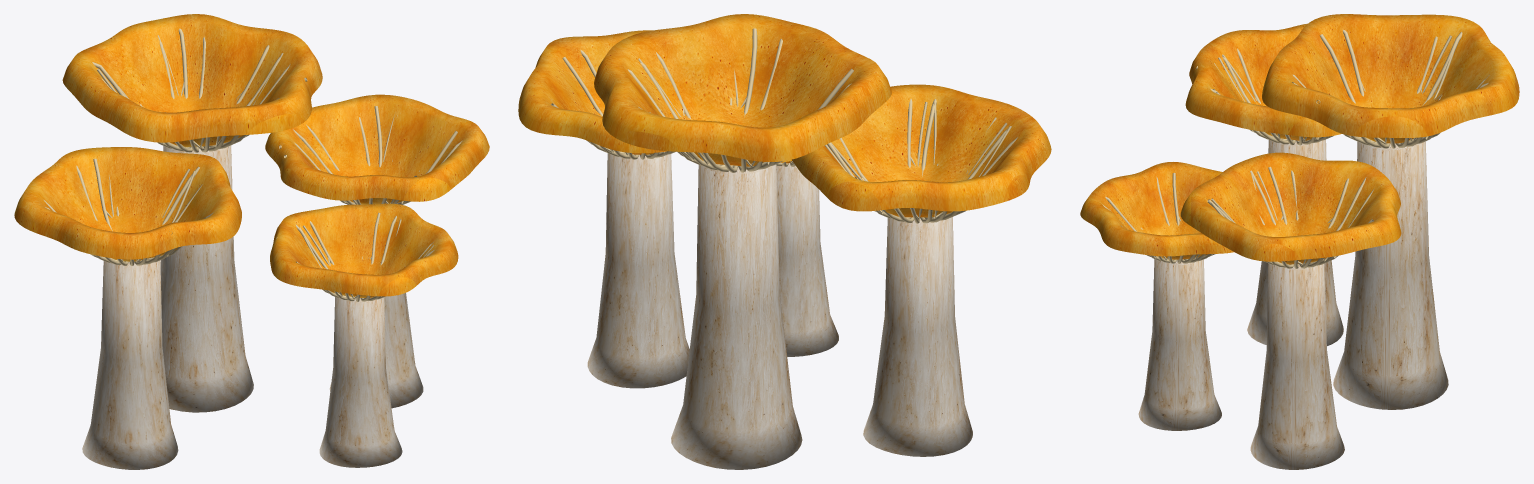
File: chanterelle-cluster-v01.glb
3 renders of one model, left to right at view 1: azimuth 30°, elevation 25°; view 2: azimuth 150°, elevation 25°; view 3: azimuth 270°, elevation 25°, orthographic. The views are drawn at different scales.
Visible parts, largest first — view 1: chanterelle 2 golden funnel cap, chanterelle 1 golden funnel cap, chanterelle 3 golden funnel cap, chanterelle 1 ivory stem, chanterelle 2 ivory stem, chanterelle 4 golden funnel cap, chanterelle 4 ivory stem, chanterelle 3 ivory stem; view 2: chanterelle 2 golden funnel cap, chanterelle 2 ivory stem, chanterelle 1 golden funnel cap, chanterelle 1 ivory stem, chanterelle 3 ivory stem, chanterelle 4 ivory stem, chanterelle 3 golden funnel cap; view 3: chanterelle 2 golden funnel cap, chanterelle 2 ivory stem, chanterelle 3 golden funnel cap, chanterelle 3 ivory stem, chanterelle 4 ivory stem, chanterelle 4 golden funnel cap, chanterelle 1 golden funnel cap, chanterelle 1 ivory stem.
Boxes of the visible parts, bbox=[...] form: chanterelle 2 golden funnel cap: bbox=[62, 14, 322, 147]; chanterelle 1 golden funnel cap: bbox=[14, 147, 241, 261]; chanterelle 3 golden funnel cap: bbox=[265, 94, 489, 204]; chanterelle 1 ivory stem: bbox=[82, 260, 178, 469]; chanterelle 2 ivory stem: bbox=[160, 145, 253, 412]; chanterelle 4 golden funnel cap: bbox=[270, 203, 458, 297]; chanterelle 4 ivory stem: bbox=[319, 297, 402, 467]; chanterelle 3 ivory stem: bbox=[329, 204, 423, 408]; chanterelle 2 golden funnel cap: bbox=[594, 14, 891, 166]; chanterelle 2 ivory stem: bbox=[671, 164, 802, 469]; chanterelle 1 golden funnel cap: bbox=[792, 84, 1051, 217]; chanterelle 1 ivory stem: bbox=[863, 217, 972, 456]; chanterelle 3 ivory stem: bbox=[587, 153, 689, 388]; chanterelle 4 ivory stem: bbox=[776, 163, 838, 356]; chanterelle 3 golden funnel cap: bbox=[518, 30, 666, 154]; chanterelle 2 golden funnel cap: bbox=[1262, 14, 1519, 143]; chanterelle 2 ivory stem: bbox=[1333, 141, 1448, 409]; chanterelle 3 golden funnel cap: bbox=[1180, 152, 1401, 264]; chanterelle 3 ivory stem: bbox=[1250, 263, 1344, 469]; chanterelle 4 ivory stem: bbox=[1138, 259, 1221, 430]; chanterelle 4 golden funnel cap: bbox=[1080, 162, 1234, 259]; chanterelle 1 golden funnel cap: bbox=[1185, 23, 1341, 140]; chanterelle 1 ivory stem: bbox=[1247, 139, 1343, 345].
Size of the model in its own units: 1.14 by 0.7965 by 0.9753.
3 materials, 2 textured.
